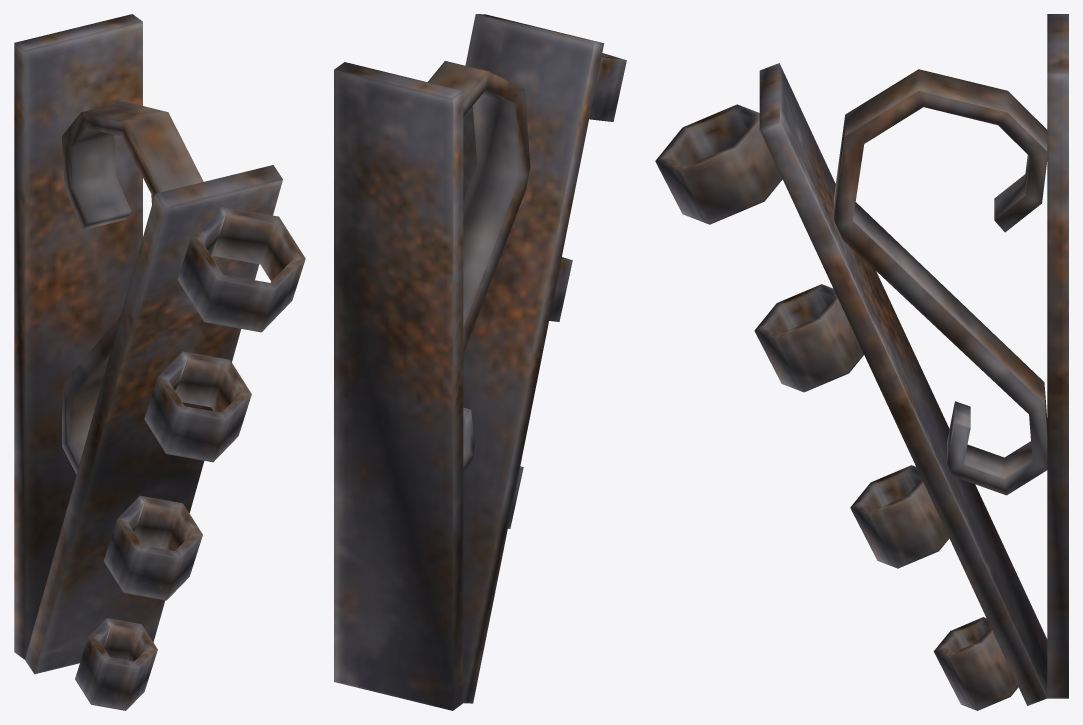
The model's file is wall_torch_empty.obj.
The picture shows the model from 3 angles, left to right: view 1: azimuth 30°, elevation 25°; view 2: azimuth 150°, elevation 25°; view 3: azimuth 270°, elevation 25°; orthographic projection. The views are drawn at different scales.
Parts seen in each view (by area): view 1: Cone001; view 2: Cone001; view 3: Cone001.
Boxes of the visible parts, x1,y1,x2,y2 form: Cone001: (14,14,305,710); Cone001: (334,14,626,710); Cone001: (655,14,1068,710).
Bounding box in the file's own units: 65 × 338 × 192.
1 material, 1 textured.
